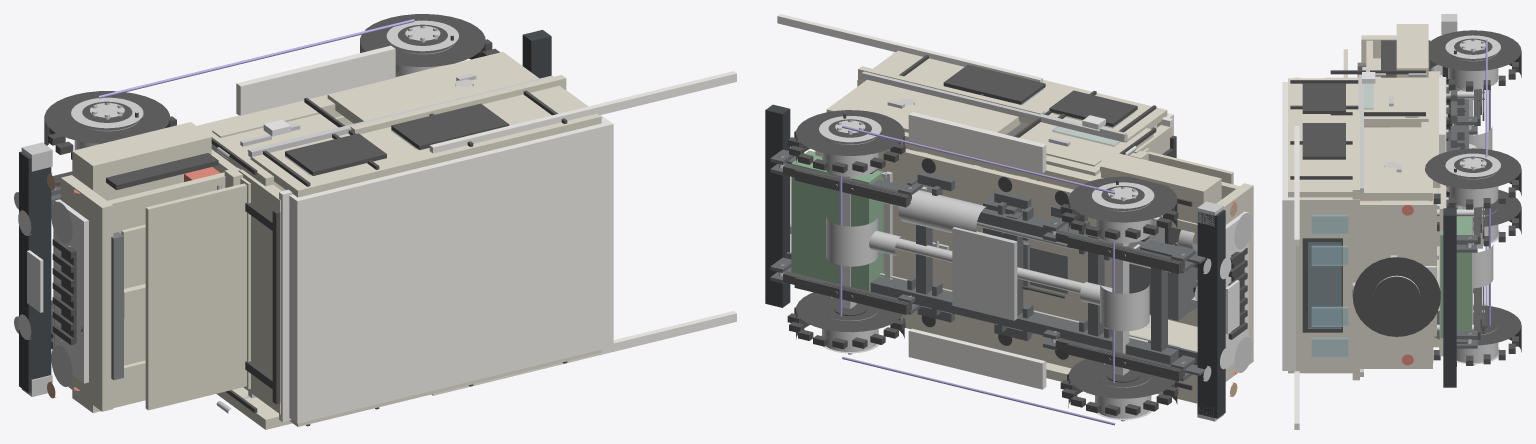
Rendered from j40_full_vehicle_scaffold_rev_a.gltf.
3 views of the same model, side by side, from view 1: azimuth 30°, elevation 25°; view 2: azimuth 150°, elevation 25°; view 3: azimuth 270°, elevation 25° (orthographic). The views are drawn at different scales.
Visible parts, largest first — view 1: white_hardtop_roof, hood_open_visual_reference, right_hardtop_side_panel, right_rear_quarter_panel, grille_panel, front_bumper, right_front_fender, hood_closed_reference, right_side_step_board, windshield_frame, front_right_tire_tire, roof_right_gutter (+26 smaller); view 2: floor_pan, rear_underfloor_fuel_tank, front_bumper, skid_plate_transfer_case, right_rear_quarter_panel, rear_bumper, right_side_step_board, left_side_step_board, left_frame_rail, right_hardtop_side_panel, right_front_fender, front_right_tire_tire (+54 smaller); view 3: rear_hardtop_panel, rear_spare_tire, tailgate_panel, right_rear_quarter_panel, right_hardtop_side_panel, rear_window_rubber_seal, white_hardtop_roof, rear_hardtop_window, rear_bumper, right_door_closed_reference, rear_right_tire_tire, front_right_tire_tire (+43 smaller).
Part boxes in pixels (x1=…): white_hardtop_roof: x1=289, y1=117, x2=613, y2=423; hood_open_visual_reference: x1=145, y1=183, x2=285, y2=410; right_hardtop_side_panel: x1=250, y1=85, x2=601, y2=197; right_rear_quarter_panel: x1=327, y1=52, x2=539, y2=123; grille_panel: x1=60, y1=175, x2=113, y2=411; front_bumper: x1=19, y1=151, x2=51, y2=393; right_front_fender: x1=72, y1=122, x2=211, y2=200; hood_closed_reference: x1=108, y1=172, x2=225, y2=404; right_side_step_board: x1=236, y1=45, x2=395, y2=115; windshield_frame: x1=238, y1=169, x2=281, y2=414; front_right_tire_tire: x1=44, y1=91, x2=170, y2=145; roof_right_gutter: x1=429, y1=71, x2=736, y2=153; floor_pan: x1=815, y1=149, x2=1112, y2=361; rear_underfloor_fuel_tank: x1=791, y1=150, x2=883, y2=291; front_bumper: x1=1197, y1=210, x2=1225, y2=418; skid_plate_transfer_case: x1=952, y1=227, x2=1017, y2=320; right_rear_quarter_panel: x1=826, y1=79, x2=1020, y2=134; rear_bumper: x1=765, y1=104, x2=790, y2=307; right_side_step_board: x1=908, y1=112, x2=1046, y2=173; left_side_step_board: x1=908, y1=328, x2=1046, y2=389; left_frame_rail: x1=870, y1=277, x2=1178, y2=364; right_hardtop_side_panel: x1=864, y1=50, x2=1167, y2=142; right_front_fender: x1=1101, y1=153, x2=1221, y2=223; front_right_tire_tire: x1=1068, y1=176, x2=1177, y2=231; rear_hardtop_panel: x1=1296, y1=197, x2=1359, y2=370; rear_spare_tire: x1=1352, y1=257, x2=1440, y2=336; tailgate_panel: x1=1360, y1=201, x2=1433, y2=363; right_rear_quarter_panel: x1=1360, y1=127, x2=1432, y2=200; right_hardtop_side_panel: x1=1288, y1=78, x2=1358, y2=197; rear_window_rubber_seal: x1=1302, y1=238, x2=1342, y2=332; white_hardtop_roof: x1=1282, y1=82, x2=1295, y2=370; rear_hardtop_window: x1=1308, y1=242, x2=1341, y2=328; rear_bumper: x1=1443, y1=208, x2=1456, y2=387; right_door_closed_reference: x1=1325, y1=77, x2=1428, y2=126; rear_right_tire_tire: x1=1425, y1=148, x2=1521, y2=195; front_right_tire_tire: x1=1428, y1=30, x2=1521, y2=77.
Size of the model in its own units: 4.44 by 1.94 by 1.96.
